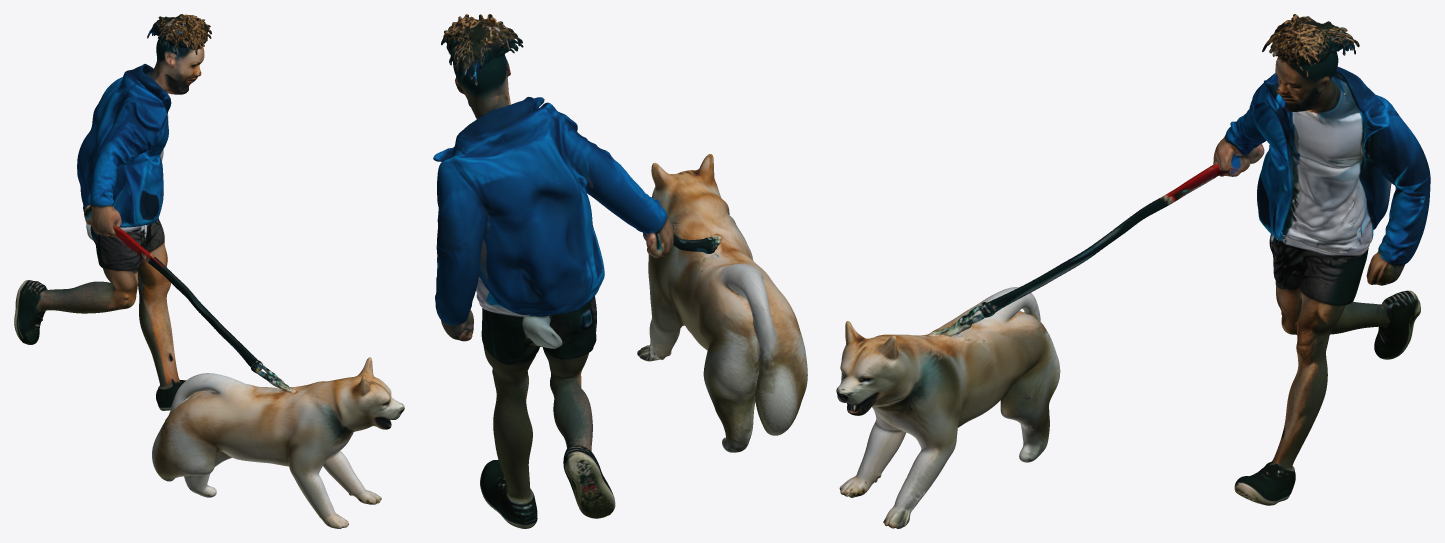
The model's file is AMO2.fbx.
3 renders of one model, left to right at view 1: azimuth 30°, elevation 25°; view 2: azimuth 150°, elevation 25°; view 3: azimuth 270°, elevation 25°, orthographic. The views are drawn at different scales.
Visible parts, largest first — view 1: tripo_node_e00f4f46; view 2: tripo_node_e00f4f46; view 3: tripo_node_e00f4f46.
Boxes of the visible parts, x1,y1,x2,y2 form: tripo_node_e00f4f46: [14, 14, 404, 528]; tripo_node_e00f4f46: [433, 14, 807, 528]; tripo_node_e00f4f46: [836, 14, 1430, 528].
Bounding box in the file's own units: 44.34 × 91.68 × 100.
Materials: 1 (1 with a texture image).
